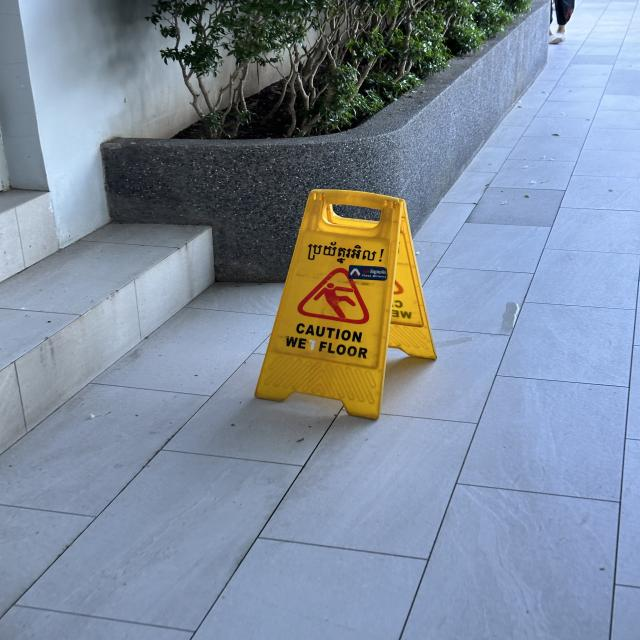Yolov11_80vkh: (301, 236, 386, 268)
